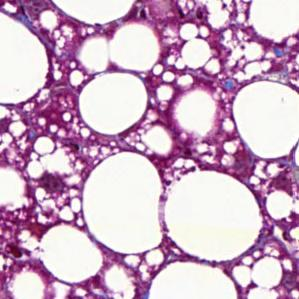steatosis: (163, 173, 260, 259), (232, 86, 299, 158), (77, 74, 149, 132)
